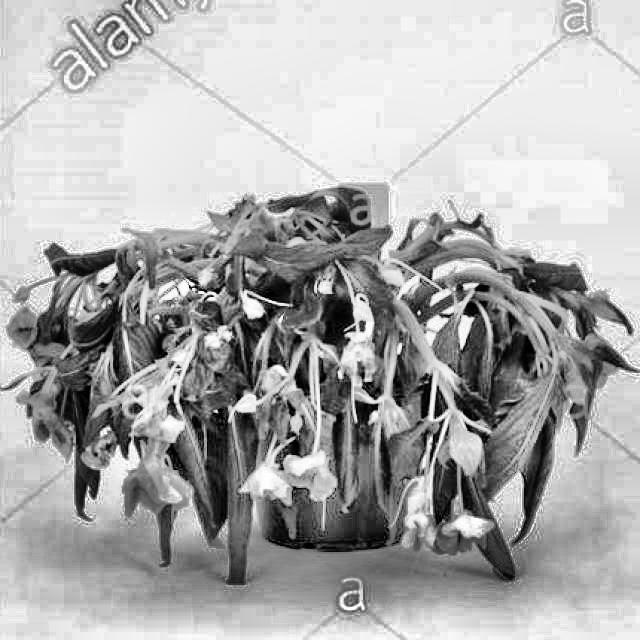plants: (6, 184, 608, 597)
